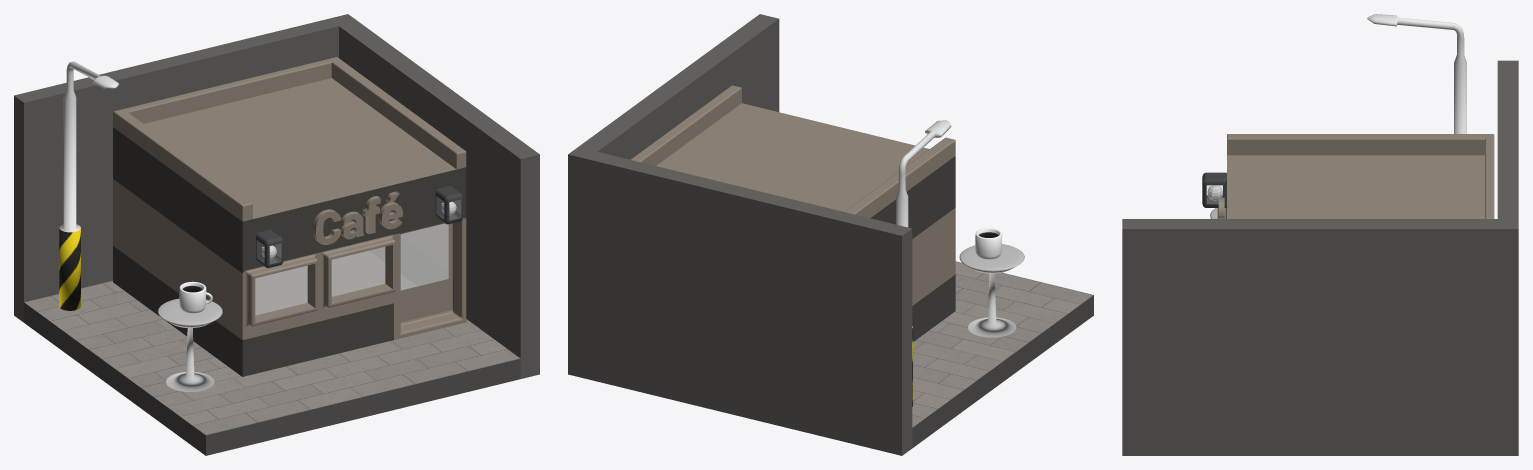
Rendered from CoffeeShop-5bbe4bc4.glb.
The picture shows the model from 3 angles, left to right: view 1: azimuth 30°, elevation 25°; view 2: azimuth 150°, elevation 25°; view 3: azimuth 270°, elevation 25°; orthographic projection. The views are drawn at different scales.
Parts seen in each view (by area): view 1: Shop, Wall, Ground, ShopWindow, StreetLamp, TextCafe, Table, Mug, ShopLampRight, ShopLampLeft; view 2: Wall, Shop, Ground, Table, StreetLamp, Mug; view 3: Wall, Shop, StreetLamp, ShopLampLeft.
Part boxes in pixels (left/top/right/bottom): Shop: left=113, top=57, right=466, bottom=376; Wall: left=14, top=14, right=539, bottom=378; Ground: left=24, top=280, right=520, bottom=455; ShopWindow: left=255, top=223, right=448, bottom=315; StreetLamp: left=59, top=61, right=119, bottom=310; TextCafe: left=313, top=191, right=402, bottom=244; Table: left=157, top=298, right=222, bottom=391; Mug: left=179, top=281, right=206, bottom=313; ShopLampRight: left=435, top=186, right=462, bottom=224; ShopLampLeft: left=256, top=229, right=283, bottom=268; Wall: left=568, top=14, right=912, bottom=455; Shop: left=630, top=85, right=955, bottom=341; Ground: left=912, top=261, right=1093, bottom=447; Table: left=959, top=244, right=1024, bottom=337; StreetLamp: left=896, top=120, right=951, bottom=406; Mug: left=975, top=228, right=1002, bottom=259; Wall: left=1122, top=60, right=1518, bottom=455; Shop: left=1217, top=134, right=1494, bottom=218; StreetLamp: left=1367, top=14, right=1466, bottom=133; ShopLampLeft: left=1202, top=172, right=1226, bottom=207.
Size of the model in its own units: 8.49 by 6.73 by 8.45.
Materials: 14 (3 with a texture image).
